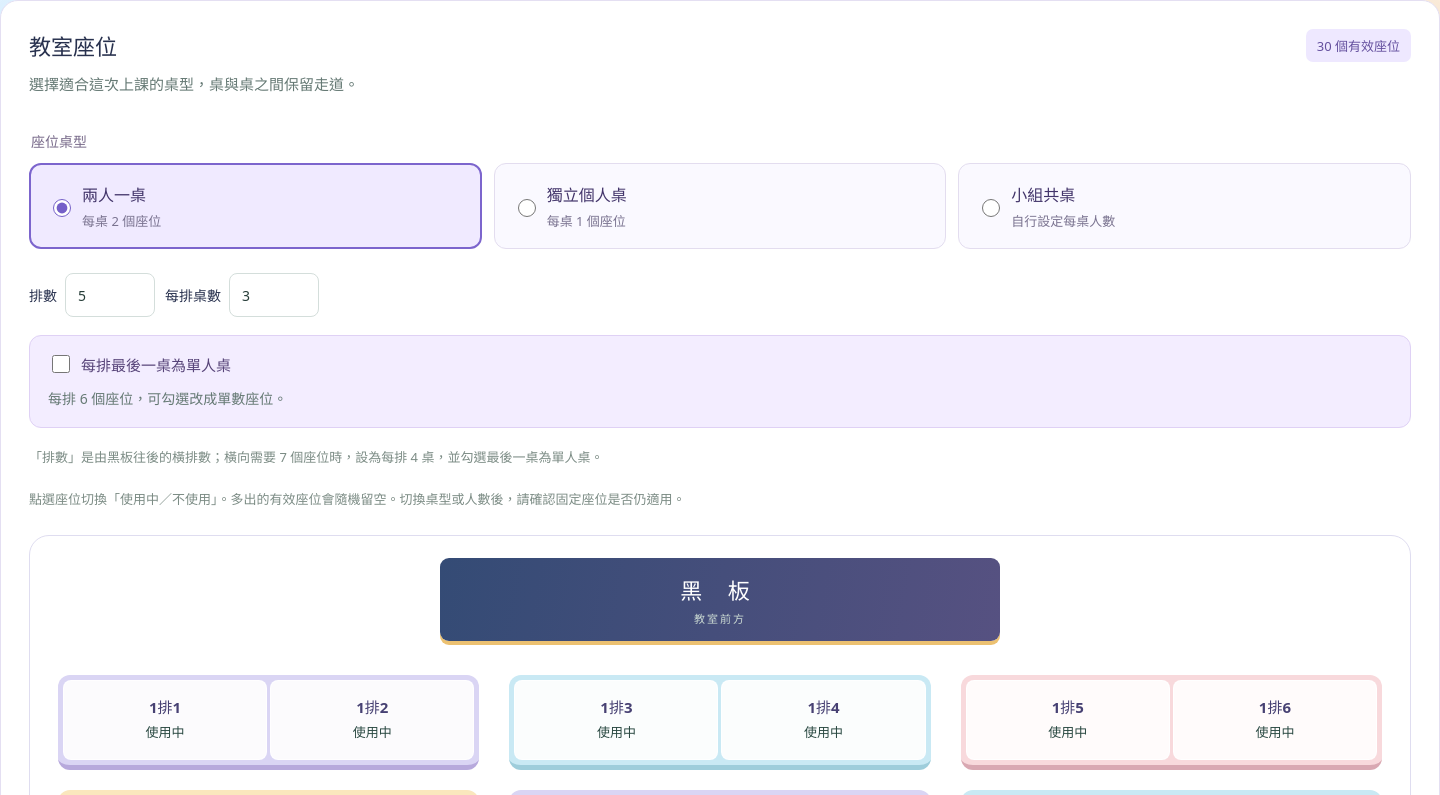
教室座位數字輸入 › 每排桌數也可清空重打，並保留不使用座位
Click the button with aria-label "第1排第1位，使用中": click(165, 720) [63,680,267,760]
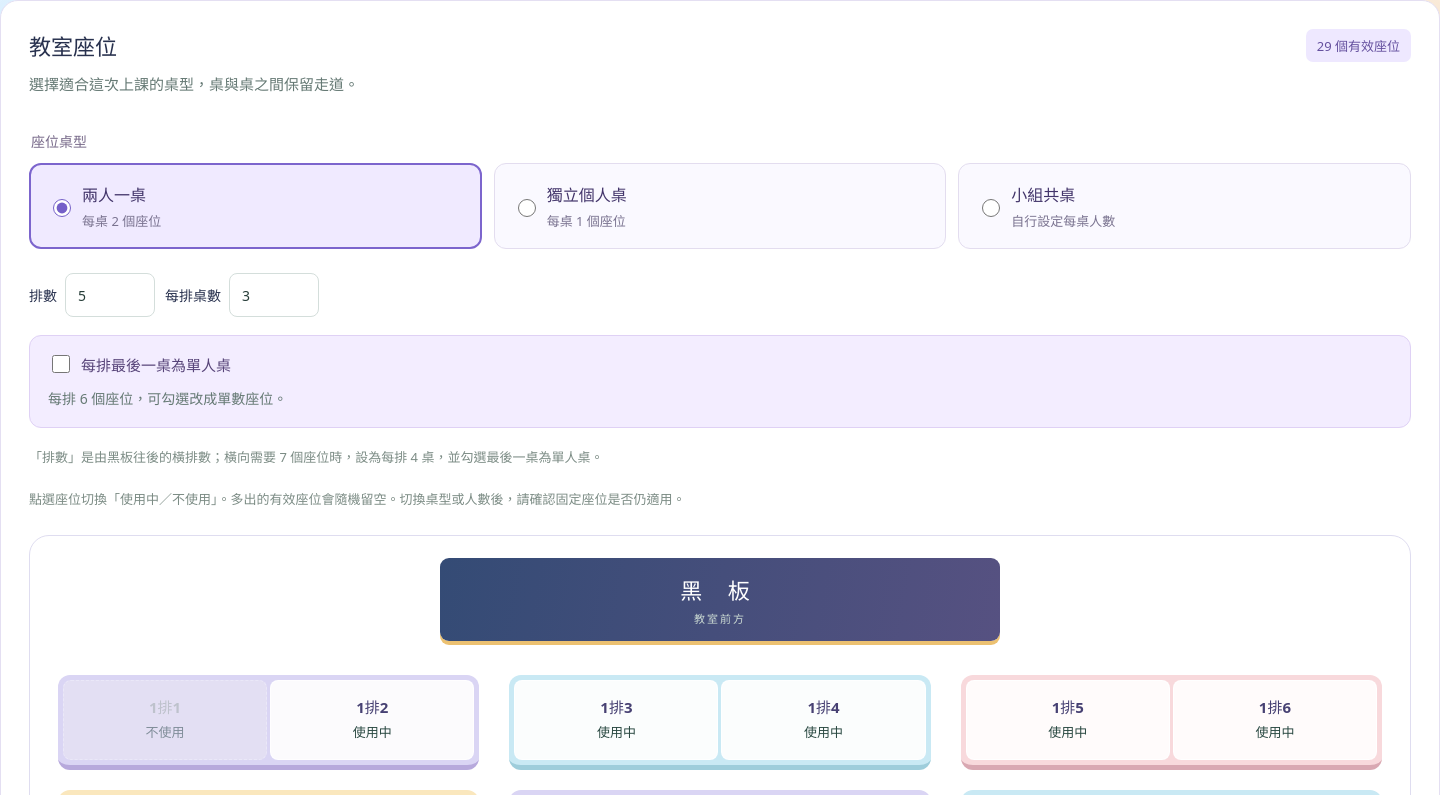
Clear the number field labelled "每排桌數": (274, 295) [229,273,319,317]
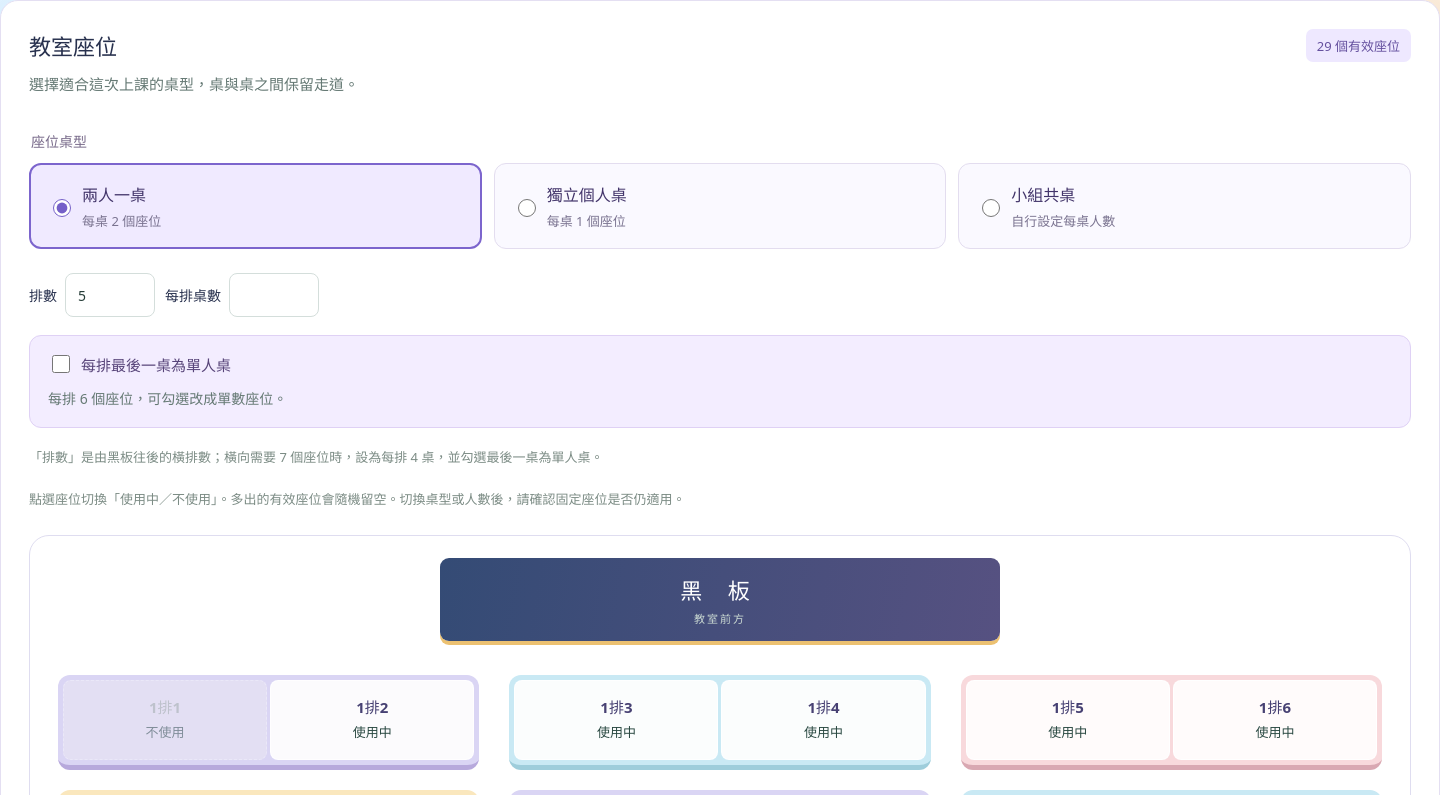
In the number field labelled "每排桌數": (274, 295) [229,273,319,317], type "4"
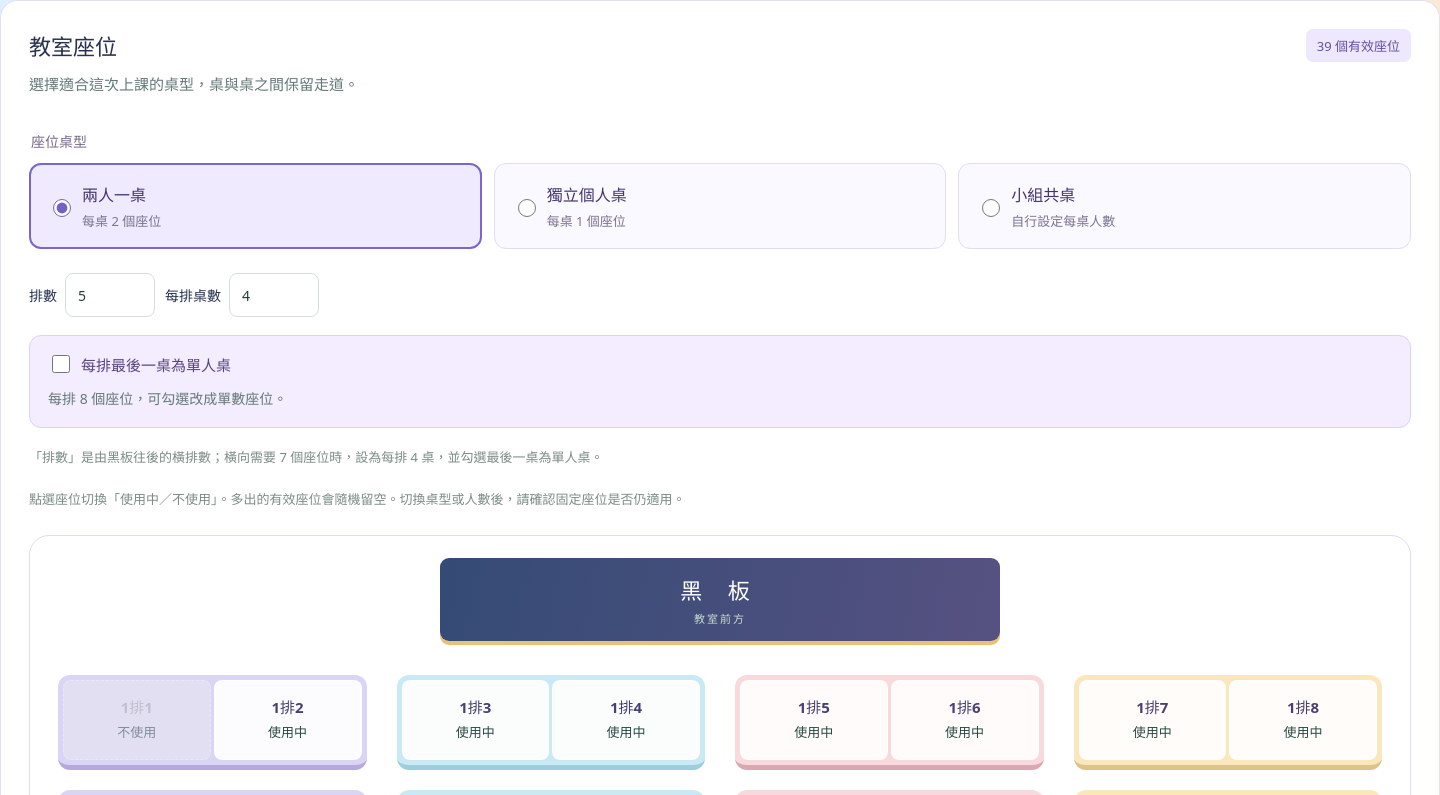
Expected: the button with aria-label "第1排第1位，不使用" is shown, [63,680,211,760]
Expected: the text "39 個有效座位" is shown, [1306,29,1411,62]
